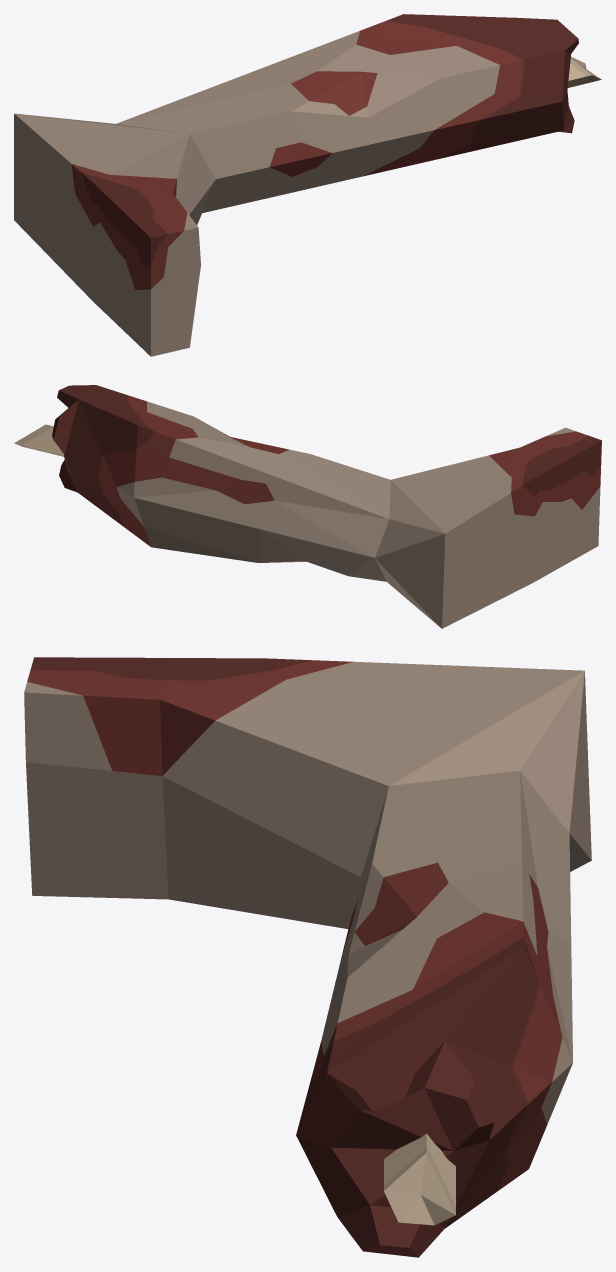
Rendered from SM_Prop_Limb_02.fbx.
The picture shows the model from 3 angles, top to bottom: view 1: azimuth 30°, elevation 25°; view 2: azimuth 150°, elevation 25°; view 3: azimuth 270°, elevation 25°; orthographic projection. The views are drawn at different scales.
Parts seen in each view (by area): view 1: SM_Prop_Limb_02; view 2: SM_Prop_Limb_02; view 3: SM_Prop_Limb_02.
Part boxes in pixels (x1,y1,x2,y2): SM_Prop_Limb_02: (14, 14, 601, 356); SM_Prop_Limb_02: (14, 385, 601, 628); SM_Prop_Limb_02: (24, 657, 591, 1257).
Bounding box in the file's own units: 44.55 × 11.13 × 22.7.
